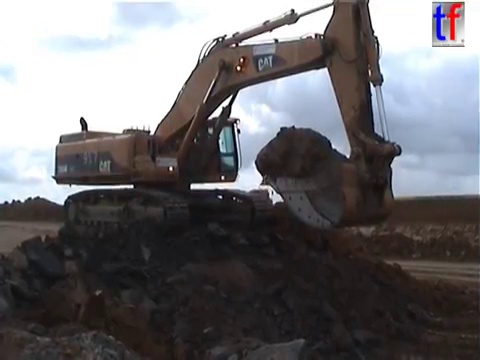excavator: (48, 1, 405, 243)
